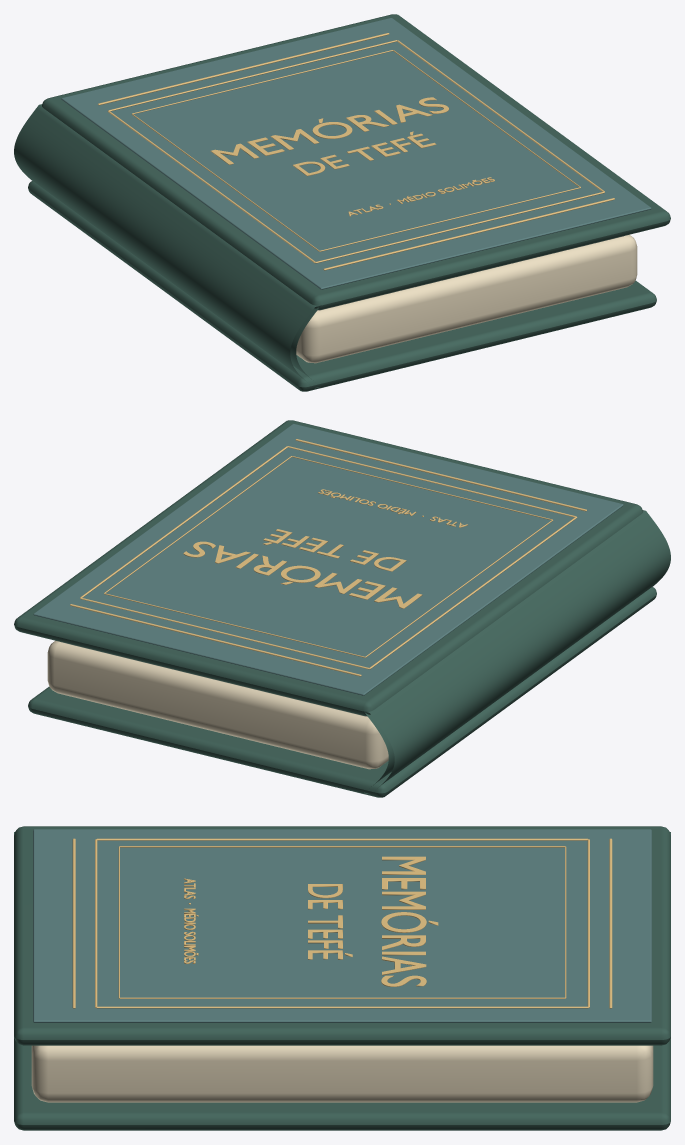
File: tefe-opening-atlas.glb
The picture shows the model from 3 angles, top to bottom: view 1: azimuth 30°, elevation 25°; view 2: azimuth 150°, elevation 25°; view 3: azimuth 270°, elevation 25°; orthographic projection. The views are drawn at different scales.
Visible parts, largest first — view 1: HERO_CoverInlay, HERO_Spine, HERO_PageBlock, HERO_FrontCover, HERO_BackBoard, TYPE_Cover_Title_01, TYPE_Cover_Title_02, DETAIL_CoverFrame_Top_A, DETAIL_CoverFrame_Bottom_A, DETAIL_CoverFrame_End_-0.18, DETAIL_CoverFrame_End_0.18, DETAIL_CoverFrame_Side_0.035 (+2 smaller); view 2: HERO_CoverInlay, HERO_Spine, HERO_PageBlock, HERO_FrontCover, HERO_BackBoard, TYPE_Cover_Title_01, TYPE_Cover_Title_02, DETAIL_CoverFrame_Bottom_A, DETAIL_CoverFrame_Top_A, DETAIL_CoverFrame_End_0.18, DETAIL_CoverFrame_End_-0.18, DETAIL_CoverFrame_Side_0.035 (+2 smaller); view 3: HERO_CoverInlay, HERO_PageBlock, HERO_FrontCover, HERO_BackBoard, TYPE_Cover_Title_01, DETAIL_CoverFrame_Side_0.325, DETAIL_CoverFrame_Side_0.035, TYPE_Cover_Title_02, DETAIL_CoverFrame_InnerSide_0.311, DETAIL_CoverFrame_InnerSide_0.049, TYPE_Cover_Imprint, DETAIL_CoverFrame_Bottom_A (+3 smaller).
Boxes of the visible parts, bbox=[...] form: HERO_CoverInlay: bbox=[61, 18, 651, 289]; HERO_Spine: bbox=[14, 104, 320, 388]; HERO_PageBlock: bbox=[296, 234, 637, 363]; HERO_FrontCover: bbox=[42, 14, 670, 309]; HERO_BackBoard: bbox=[28, 181, 656, 391]; TYPE_Cover_Title_01: bbox=[210, 97, 448, 164]; TYPE_Cover_Title_02: bbox=[292, 131, 436, 176]; DETAIL_CoverFrame_Top_A: bbox=[98, 33, 389, 105]; DETAIL_CoverFrame_Bottom_A: bbox=[323, 198, 614, 270]; DETAIL_CoverFrame_End_-0.18: bbox=[315, 191, 604, 263]; DETAIL_CoverFrame_End_0.18: bbox=[108, 40, 396, 111]; DETAIL_CoverFrame_Side_0.035: bbox=[107, 110, 315, 263]; HERO_CoverInlay: bbox=[33, 424, 623, 695]; HERO_Spine: bbox=[364, 510, 670, 794]; HERO_PageBlock: bbox=[47, 640, 388, 769]; HERO_FrontCover: bbox=[14, 420, 642, 715]; HERO_BackBoard: bbox=[28, 587, 656, 797]; TYPE_Cover_Title_01: bbox=[183, 541, 422, 608]; TYPE_Cover_Title_02: bbox=[263, 529, 406, 571]; DETAIL_CoverFrame_Bottom_A: bbox=[295, 439, 586, 511]; DETAIL_CoverFrame_Top_A: bbox=[70, 604, 361, 676]; DETAIL_CoverFrame_End_0.18: bbox=[80, 597, 369, 669]; DETAIL_CoverFrame_End_-0.18: bbox=[288, 446, 576, 517]; DETAIL_CoverFrame_Side_0.035: bbox=[369, 516, 577, 669]; HERO_CoverInlay: bbox=[33, 829, 651, 1022]; HERO_PageBlock: bbox=[31, 1045, 653, 1102]; HERO_FrontCover: bbox=[14, 826, 670, 1045]; HERO_BackBoard: bbox=[14, 1037, 670, 1130]; TYPE_Cover_Title_01: bbox=[381, 856, 438, 986]; DETAIL_CoverFrame_Side_0.325: bbox=[96, 1006, 588, 1008]; DETAIL_CoverFrame_Side_0.035: bbox=[96, 838, 588, 840]; TYPE_Cover_Title_02: bbox=[308, 884, 352, 959]; DETAIL_CoverFrame_InnerSide_0.311: bbox=[119, 997, 565, 998]; DETAIL_CoverFrame_InnerSide_0.049: bbox=[120, 846, 564, 847]; TYPE_Cover_Imprint: bbox=[184, 878, 198, 963]; DETAIL_CoverFrame_Bottom_A: bbox=[72, 838, 75, 1008].
Bounding box in the file's own units: 0.385 × 0.0942 × 0.48.
